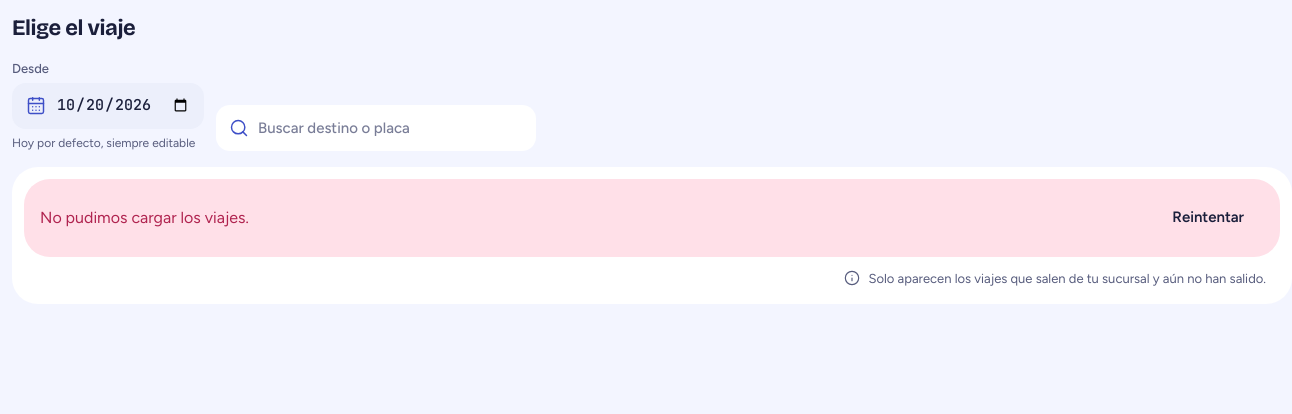
CounterTrips › offers to try again when the trips cannot be loaded
The width and height of the screenshot is (1292, 414).
Expected: the text "No pudimos cargar los viajes." is shown, [40,206,249,230]
Click the button "Reintentar". click: [1208, 218]
box: [1152,195,1264,241]
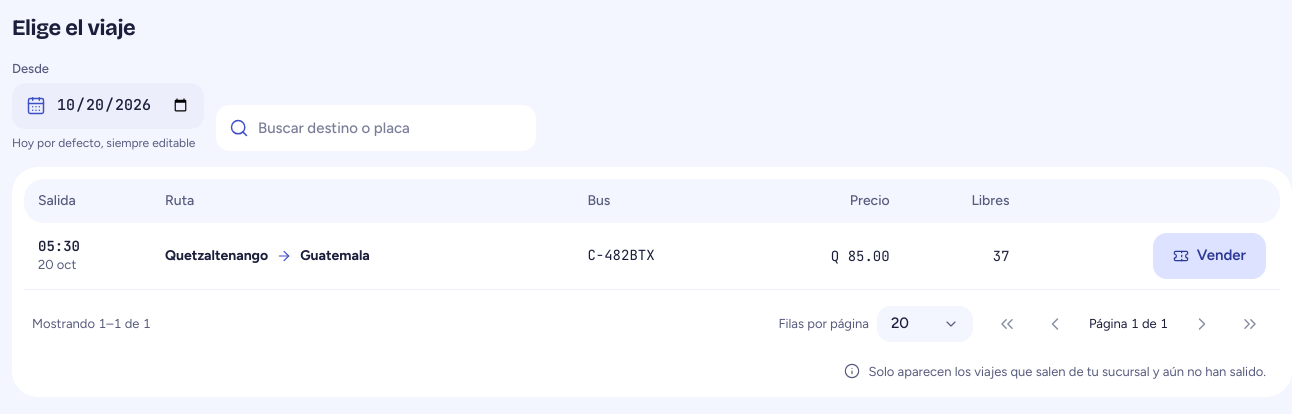
Now the row "Quetzaltenango" is shown, box [24,223,1280,290]
